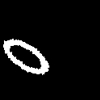chain: (3, 39, 48, 74)
